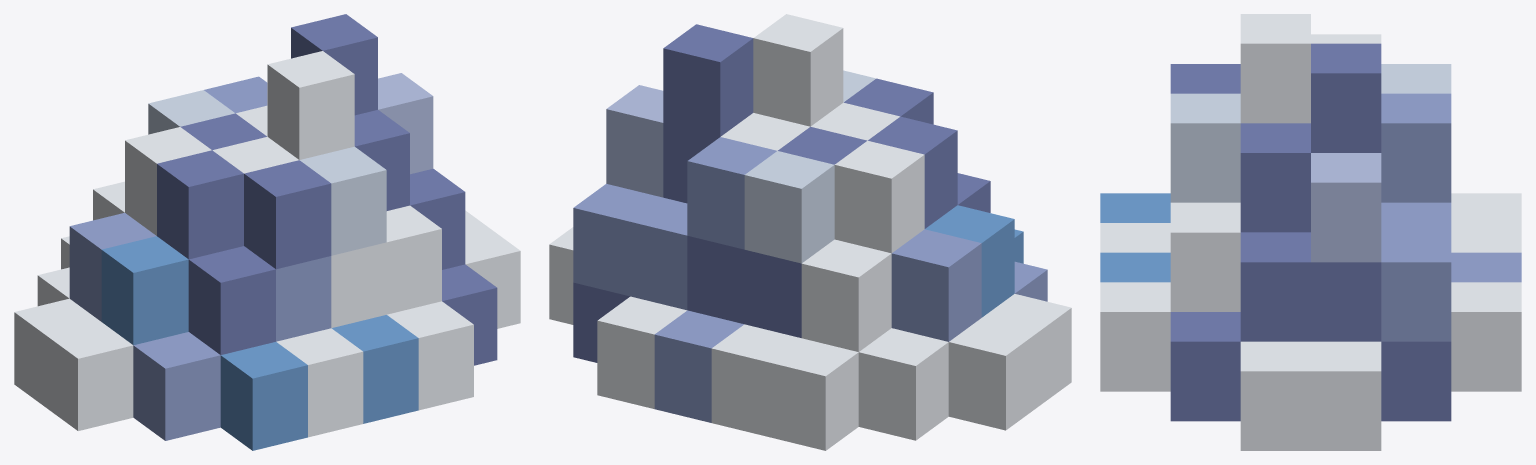
Rendered from IceLedge.glb.
The picture shows the model from 3 angles, left to right: view 1: azimuth 30°, elevation 25°; view 2: azimuth 150°, elevation 25°; view 3: azimuth 270°, elevation 25°; orthographic projection. The views are drawn at different scales.
Visible parts, largest first — view 1: IceLedge; view 2: IceLedge; view 3: IceLedge.
Boxes of the visible parts, left/top/right/bottom form: IceLedge: left=14, top=14, right=520, bottom=450; IceLedge: left=549, top=14, right=1071, bottom=450; IceLedge: left=1100, top=14, right=1521, bottom=450.
Size of the model in its own units: 16 by 10 by 12.
1 material, 1 textured.
